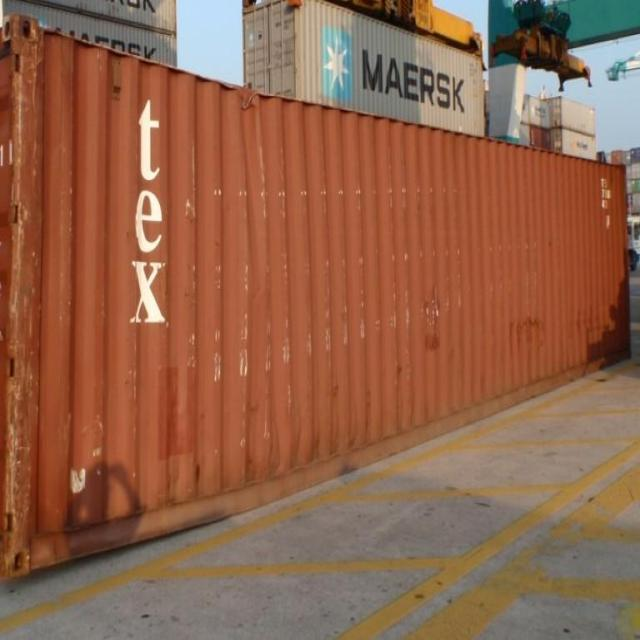dent: (4, 504, 234, 584), (234, 122, 267, 284), (232, 83, 263, 113)
